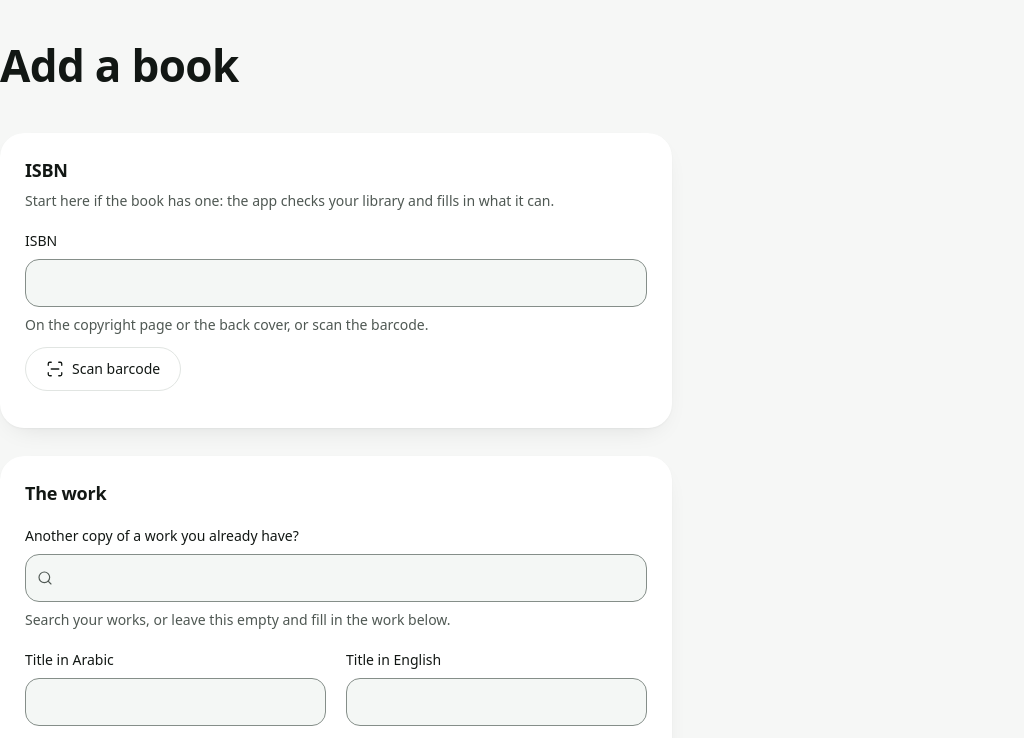
Test case: BookFormPage › Filling in from the ISBN › shows a suggested value as text, never as markup (scriptInASuggestedTitleIsShownAsText)
Type "9789933685027" into the field labelled "ISBN" at (336,283), box [25,259,647,307]
(page scrolled)
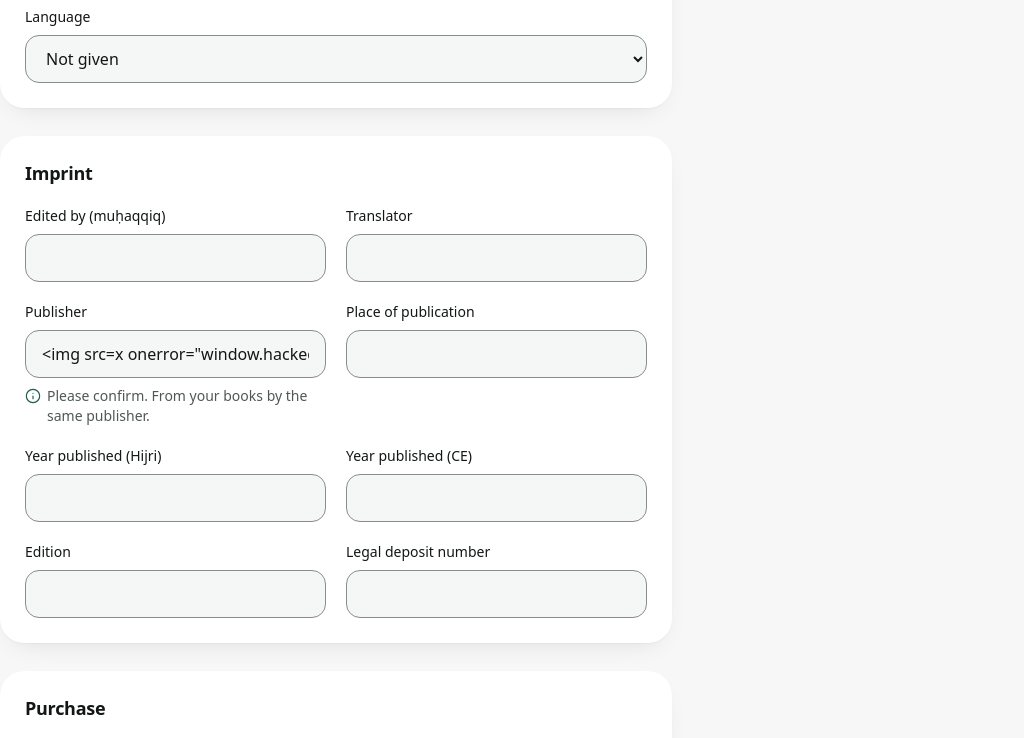
expect the field showing "<img src=x onerror=\"window.hacked=1\">" is shown: met, box [25,330,326,378]
